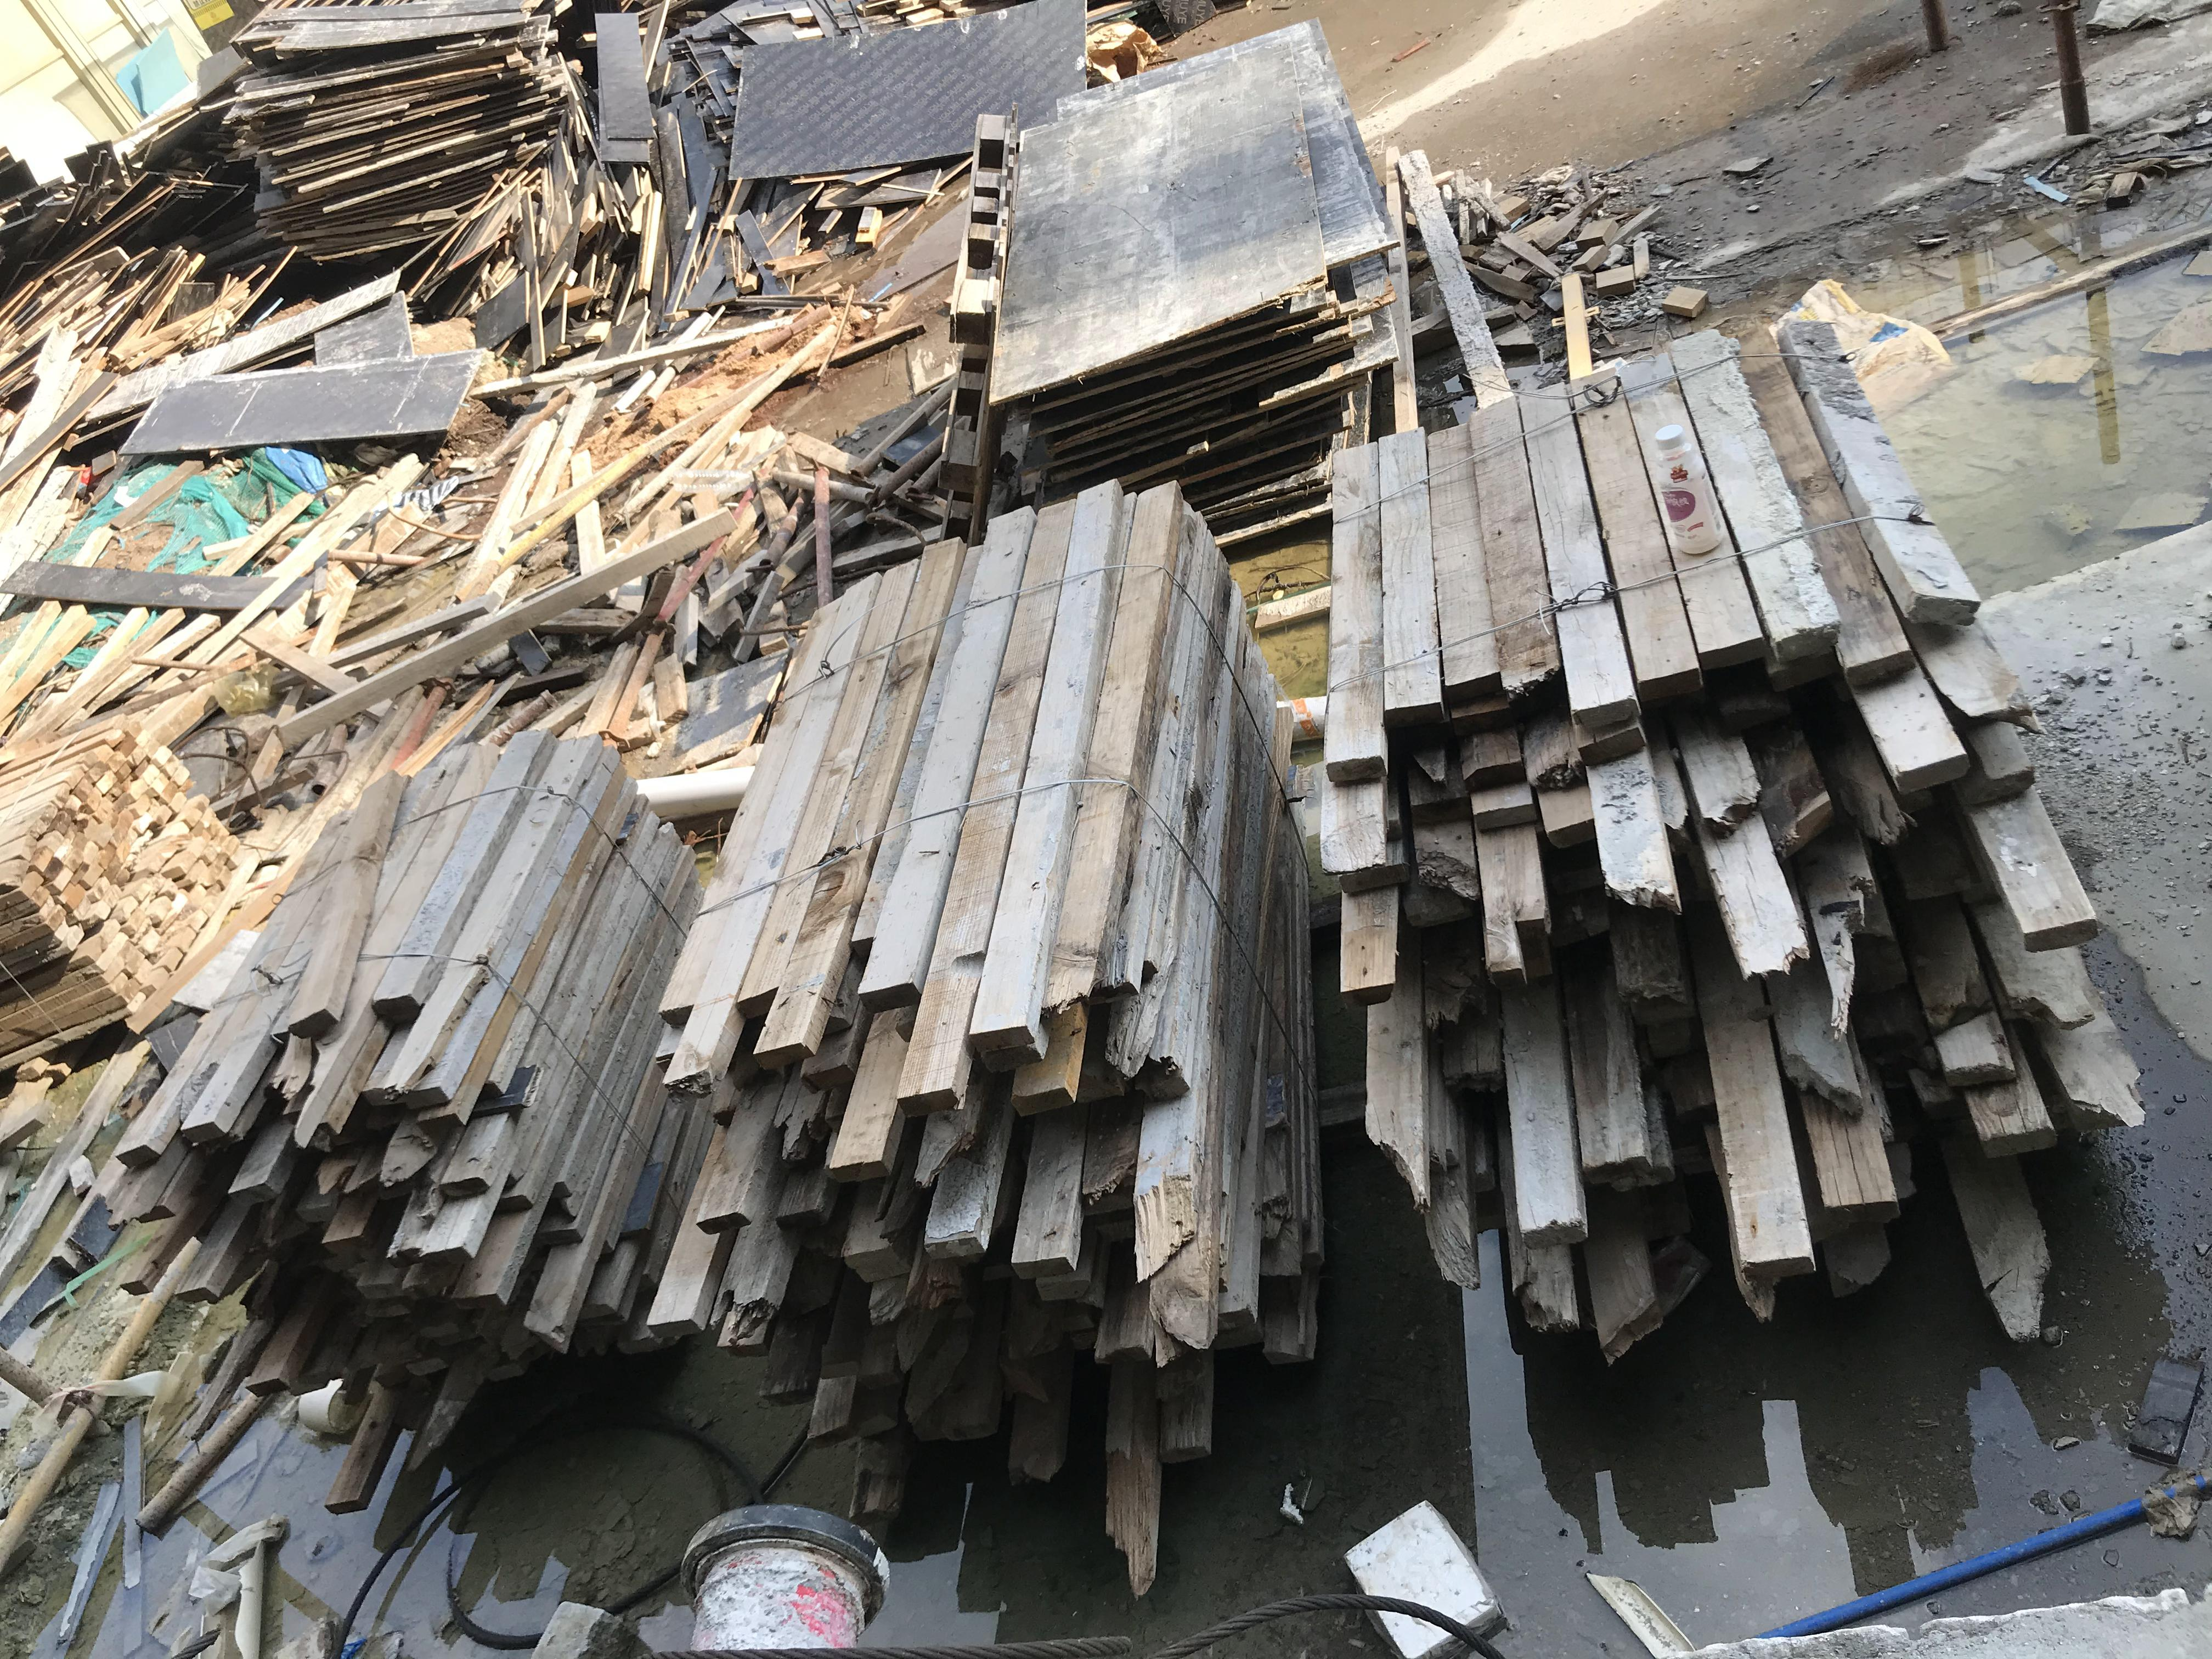board: (998, 19, 1386, 483), (235, 0, 552, 251)
wood: (1346, 324, 2101, 1363), (664, 488, 1327, 1446), (162, 739, 669, 1380), (0, 725, 249, 1073)
